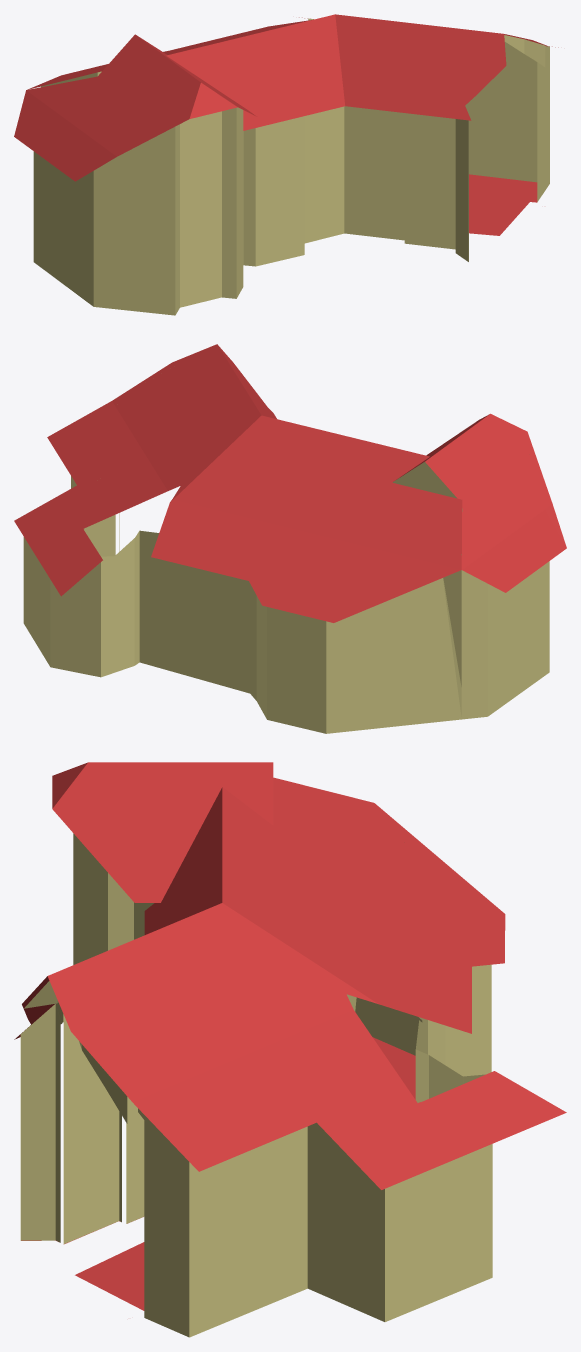
3 renders of one model, top to bottom at view 1: azimuth 30°, elevation 25°; view 2: azimuth 150°, elevation 25°; view 3: azimuth 270°, elevation 25°, orthographic. The views are drawn at different scales.
Bounding box in the file's own units: 31.4 × 21.13 × 13.13.
